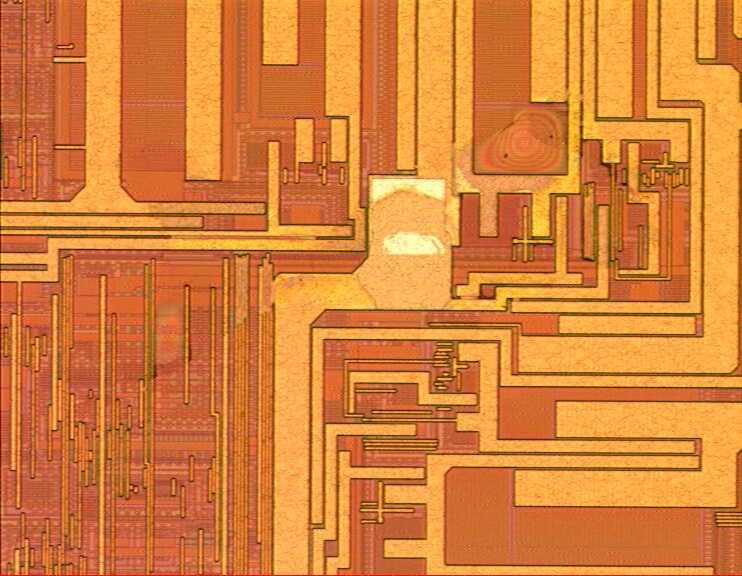COATING BAD: (102, 92, 666, 377)
